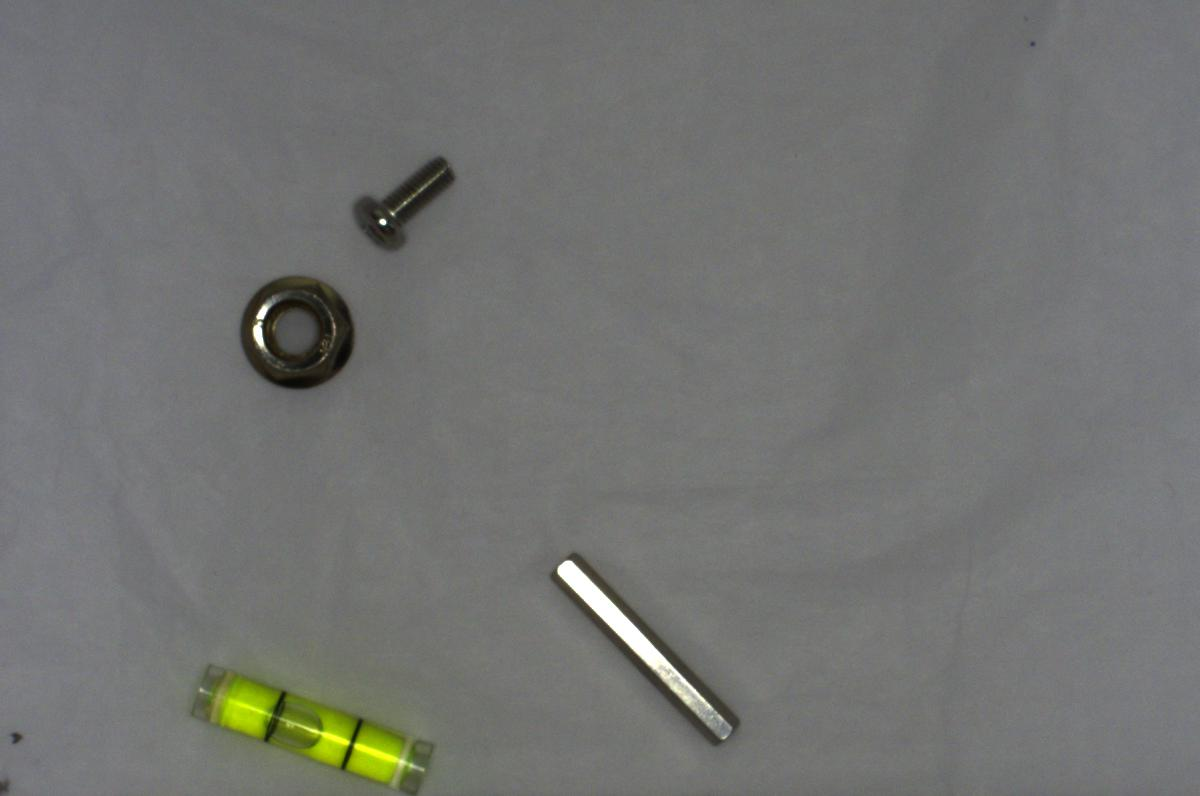Double hexagonal column: (547, 543, 741, 747)
Flange nut: (234, 270, 360, 392)
Horizontal bubble: (184, 659, 439, 793)
Round head screw: (350, 146, 457, 259)
